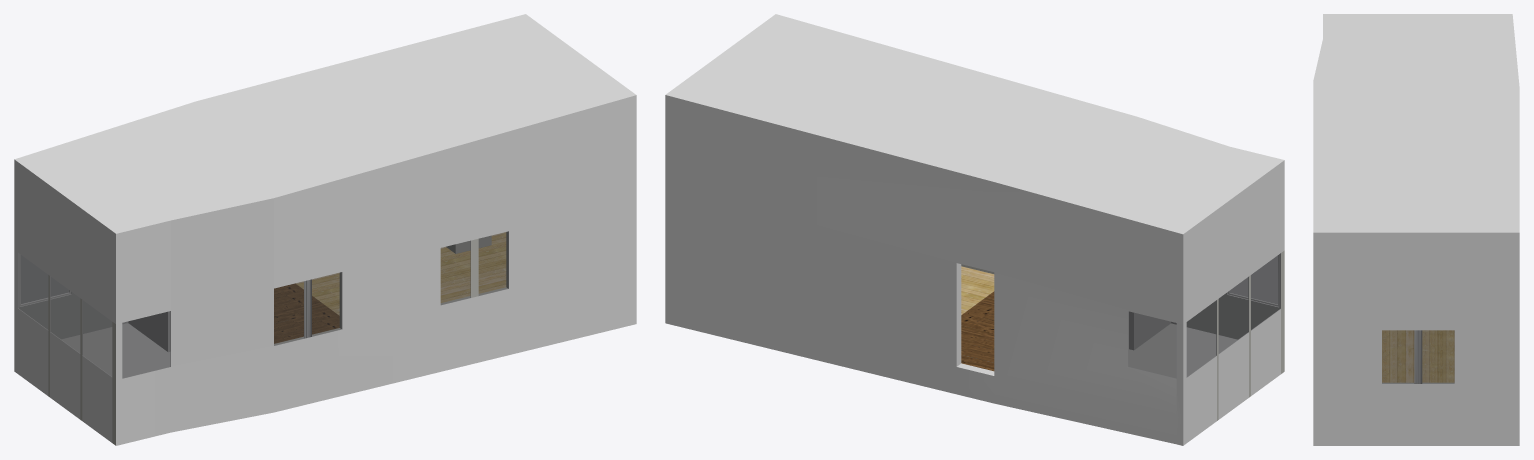
The model's file is Manor.fbx.
3 renders of one model, left to right at view 1: azimuth 30°, elevation 25°; view 2: azimuth 150°, elevation 25°; view 3: azimuth 270°, elevation 25°, orthographic. The views are drawn at different scales.
Visible parts, largest first — view 1: Slupa, Manor; view 2: Slupa, Manor; view 3: Slupa, Manor.
Part boxes in pixels (bbox=[...]): Slupa: bbox=[14, 14, 636, 445]; Manor: bbox=[18, 231, 508, 445]; Slupa: bbox=[665, 14, 1284, 445]; Manor: bbox=[961, 250, 1284, 420]; Slupa: bbox=[1313, 14, 1519, 445]; Manor: bbox=[1382, 330, 1454, 383].
Bounding box in the file's own units: 1021 × 433 × 380.
